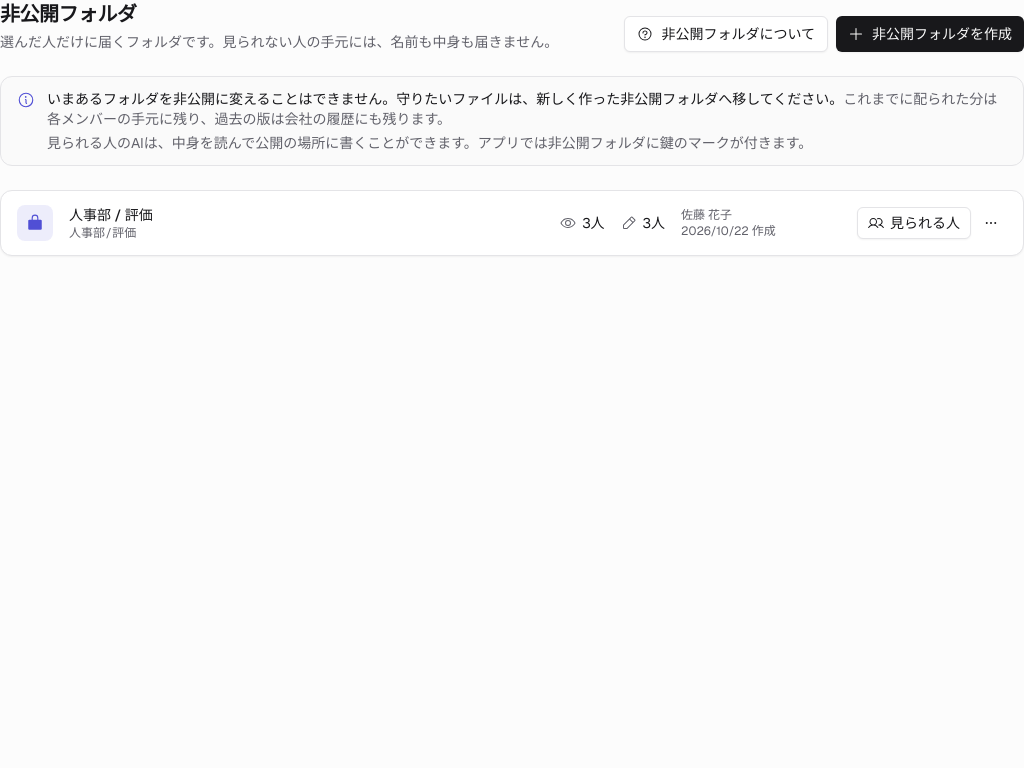
非公開フォルダ: create › shows the server sentence for a name that is taken, without saying why
Step 1. Click the button "非公開フォルダを作成" → (930, 34), box [836,16,1023,52]
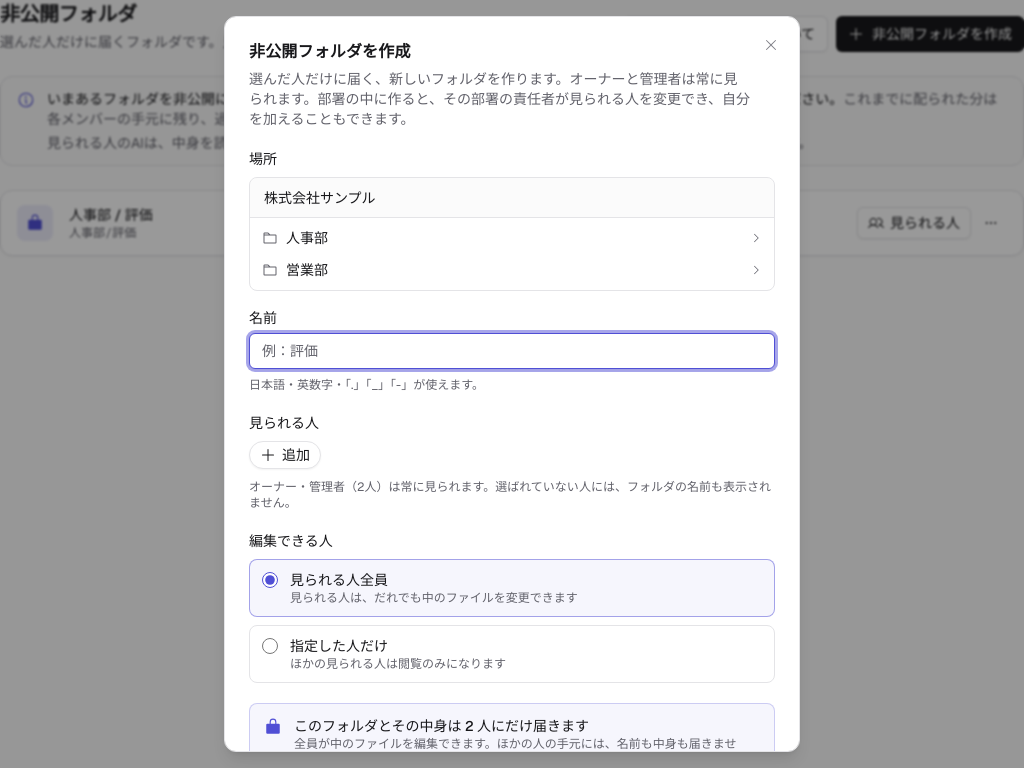
Step 2. Click the button "営業部" → (307, 270), box [254,254,770,286]
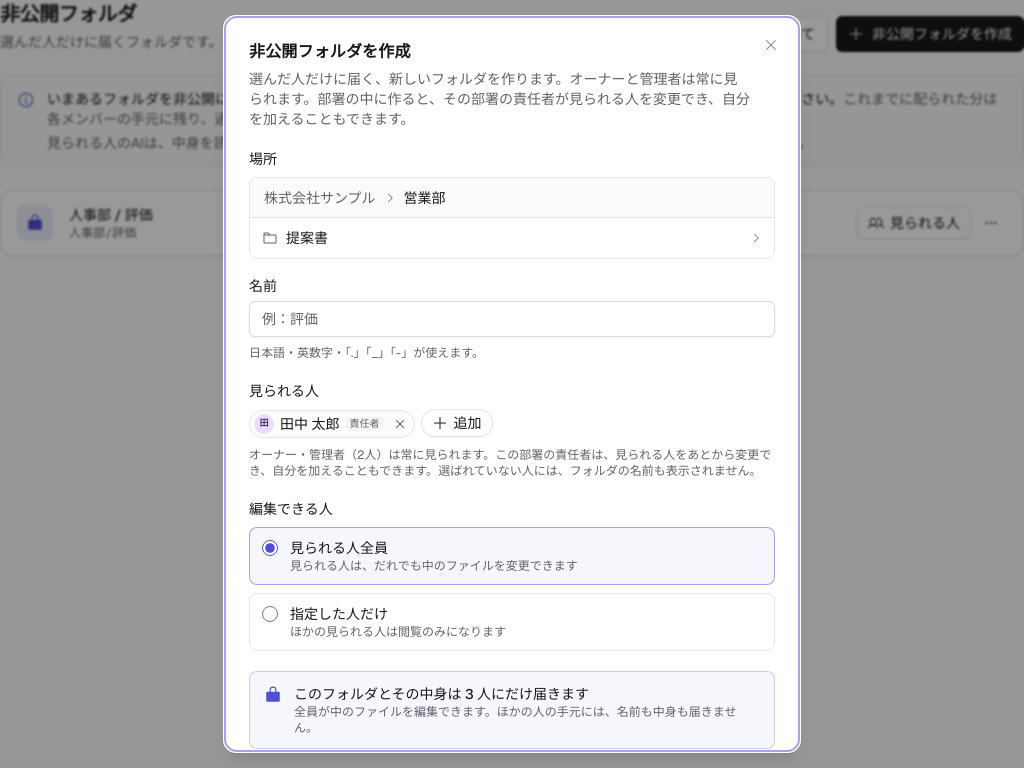
expect the text "提案書" is shown: met, box [286,229,328,247]
Step 3. Type "提案書" into the field labelled "名前" → (512, 319), box [249,301,775,337]
(page scrolled)
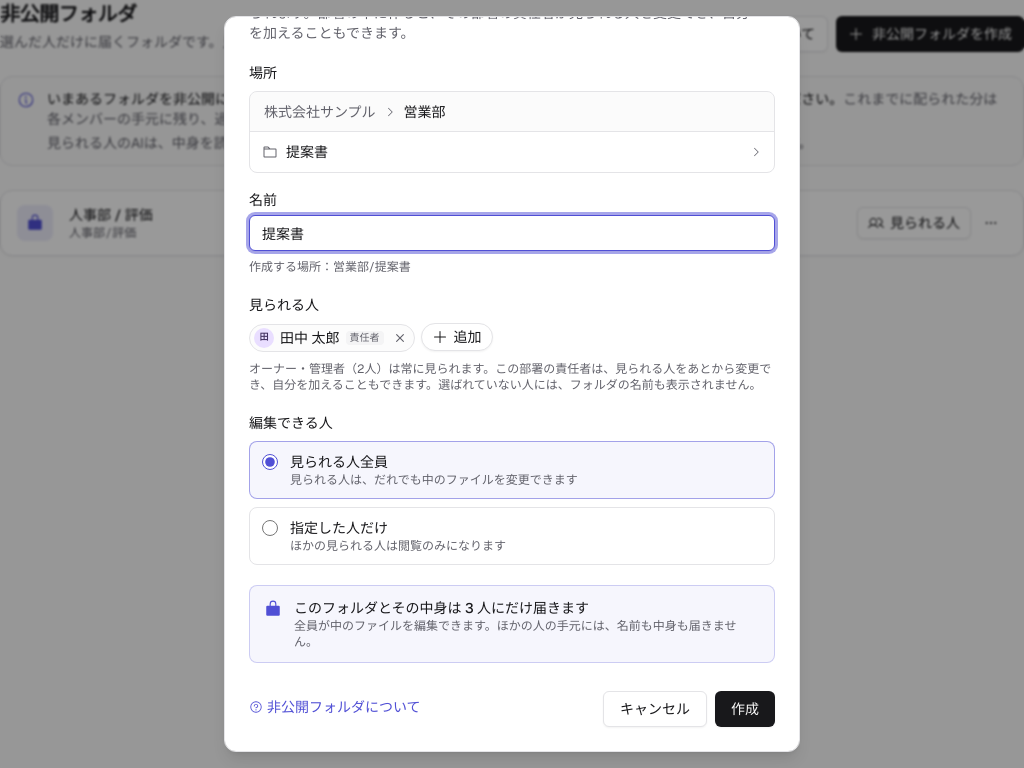
Step 4. Click the button "作成" → (745, 709), box [715,691,775,727]
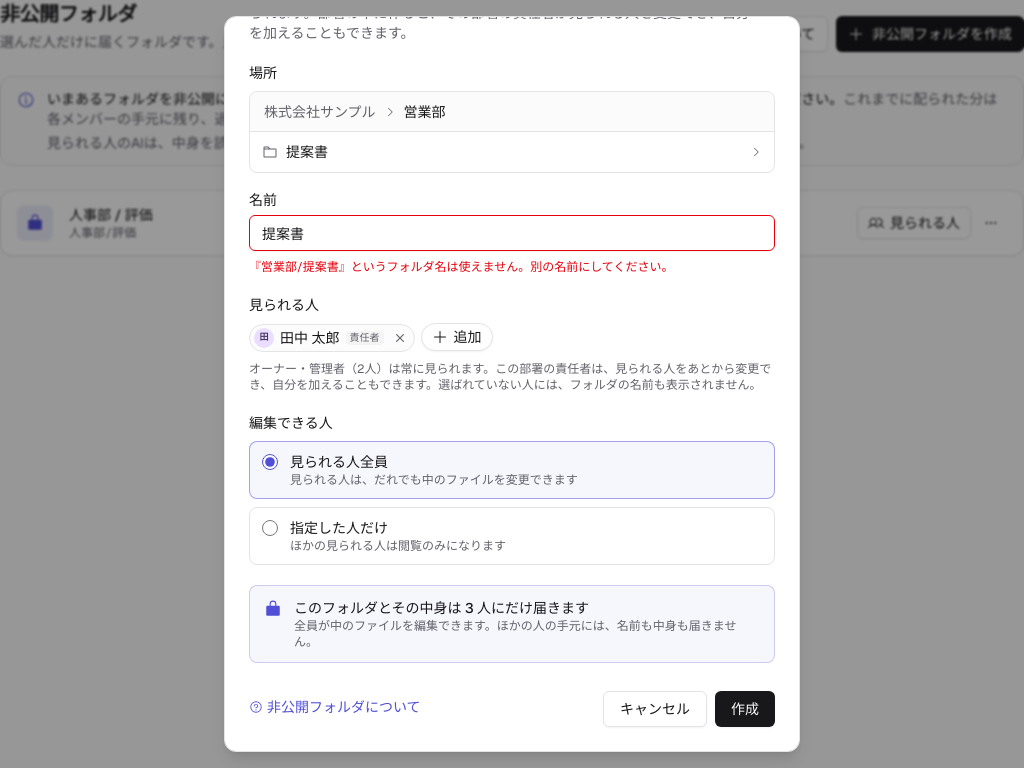
expect the dialog is shown: met, box [224,16,800,752]
expect the text "『営業部/提案書』というフォルダ名は使えません。別の名前にしてください。" is shown: met, box [249,259,674,275]
